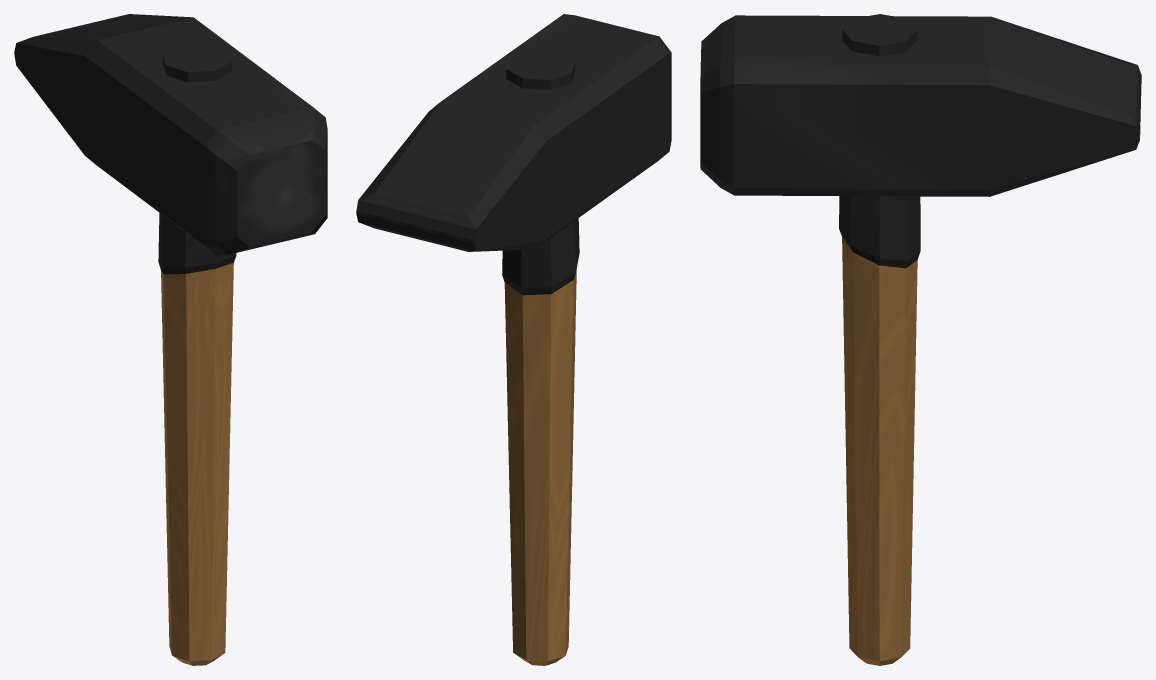
File: Hammer.fbx
3 renders of one model, left to right at view 1: azimuth 30°, elevation 25°; view 2: azimuth 150°, elevation 25°; view 3: azimuth 270°, elevation 25°, orthographic. The views are drawn at different scales.
Parts seen in each view (by area): view 1: Cube; view 2: Cube; view 3: Cube.
Part boxes in pixels (x1,y1,x2,y2): Cube: [14, 14, 327, 665]; Cube: [356, 14, 671, 665]; Cube: [700, 14, 1141, 665].
Bounding box in the file's own units: 11.24 × 52.14 × 33.18.
Materials: 1 (1 with a texture image).
